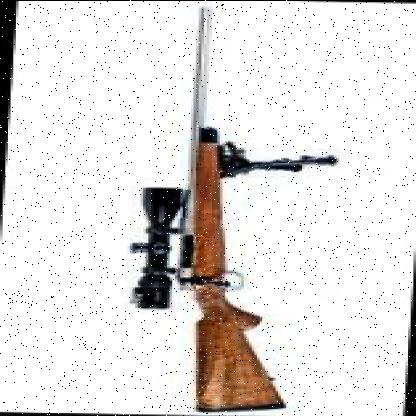rifle: (156, 4, 362, 415)
